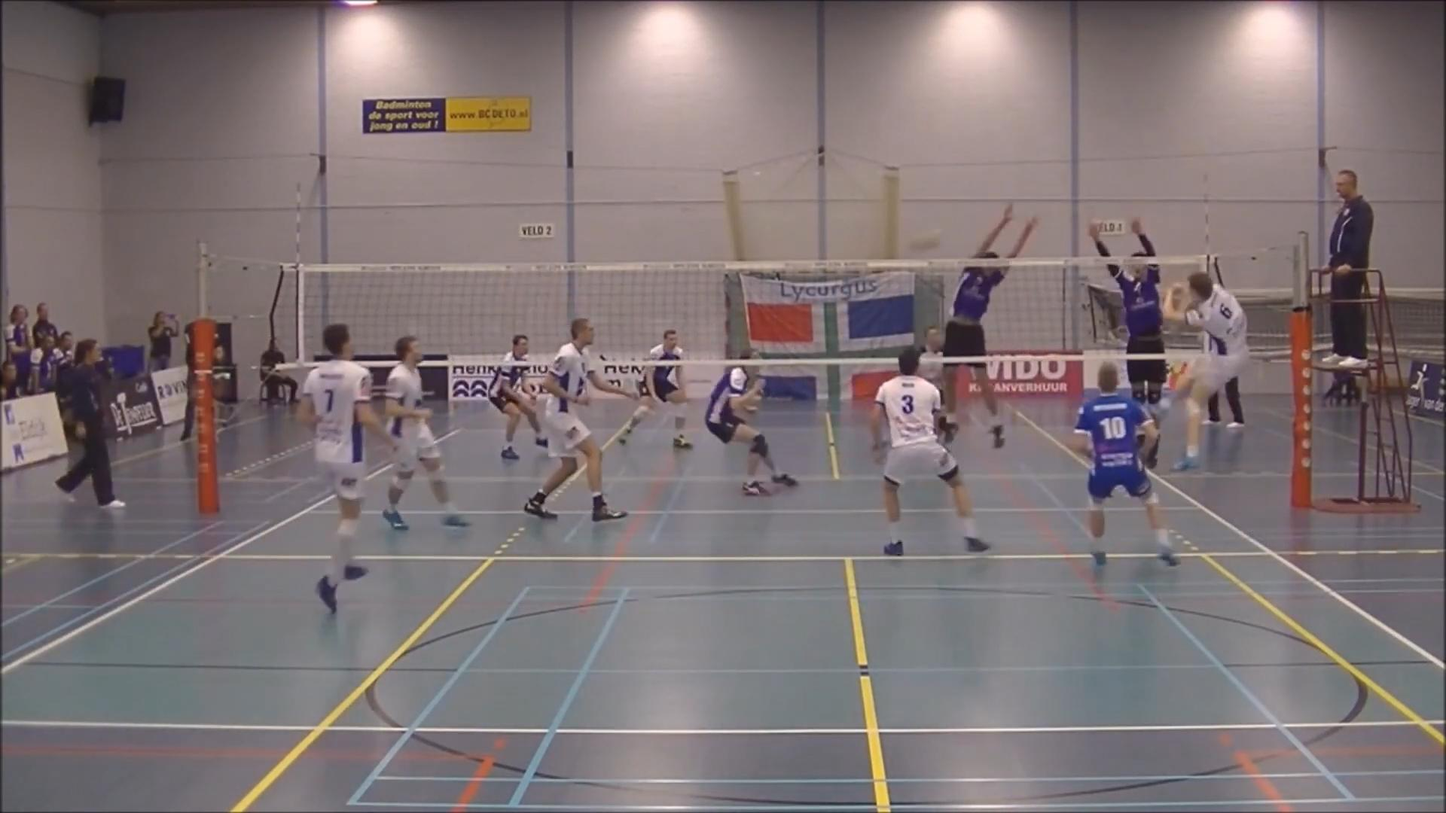Attack: (1146, 270, 1254, 476)
Block: (919, 191, 1046, 470), (1079, 211, 1169, 468)
Player: (297, 324, 394, 612), (870, 349, 990, 555), (524, 318, 637, 521), (1074, 362, 1177, 565), (382, 336, 468, 530), (705, 366, 797, 495), (487, 334, 547, 460), (618, 364, 691, 449), (918, 325, 944, 391)
